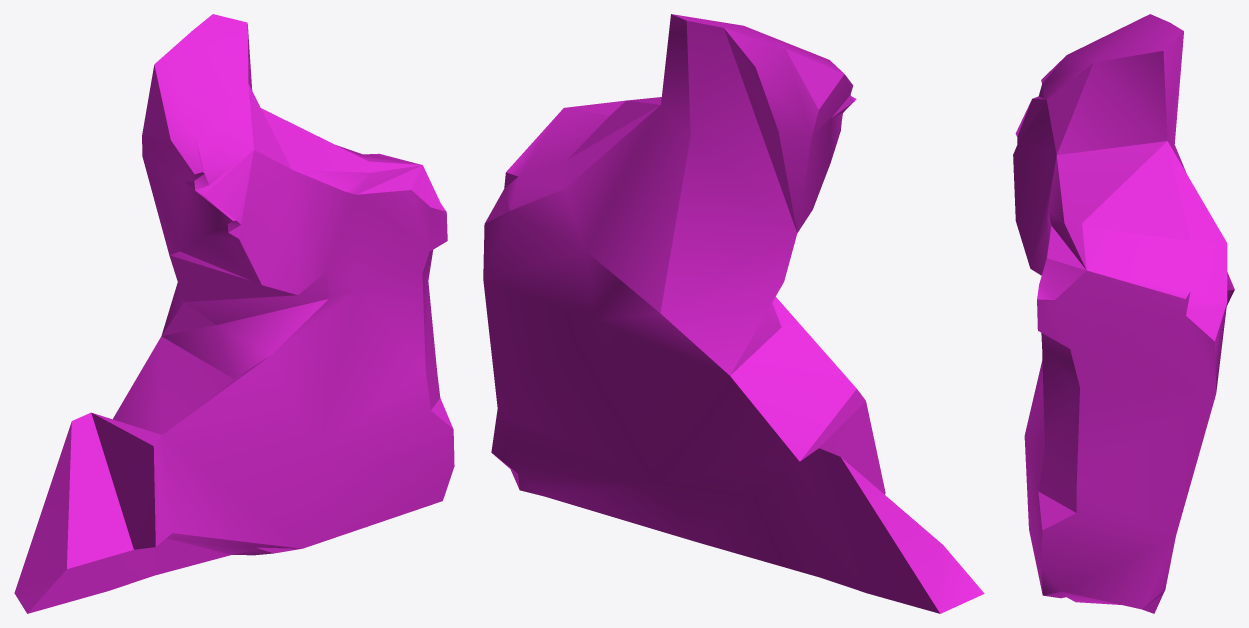
File: skala3.fbx
3 renders of one model, left to right at view 1: azimuth 30°, elevation 25°; view 2: azimuth 150°, elevation 25°; view 3: azimuth 270°, elevation 25°, orthographic. The views are drawn at different scales.
Parts seen in each view (by area): view 1: skala3; view 2: skala3; view 3: skala3.
Boxes of the visible parts, x1=… form: skala3: x1=14, y1=14, x2=454, y2=613; skala3: x1=483, y1=14, x2=984, y2=613; skala3: x1=1013, y1=14, x2=1234, y2=613.
Size of the model in its own units: 0.9608 by 1.11 by 0.4288.
